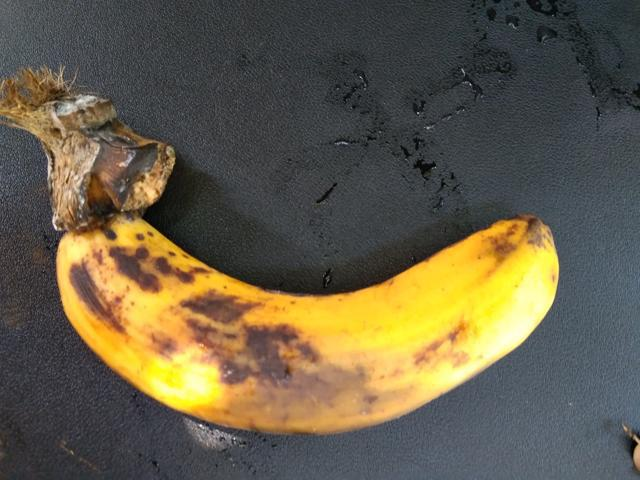overripe: (37, 181, 576, 443)
rotten: (167, 314, 445, 479)
